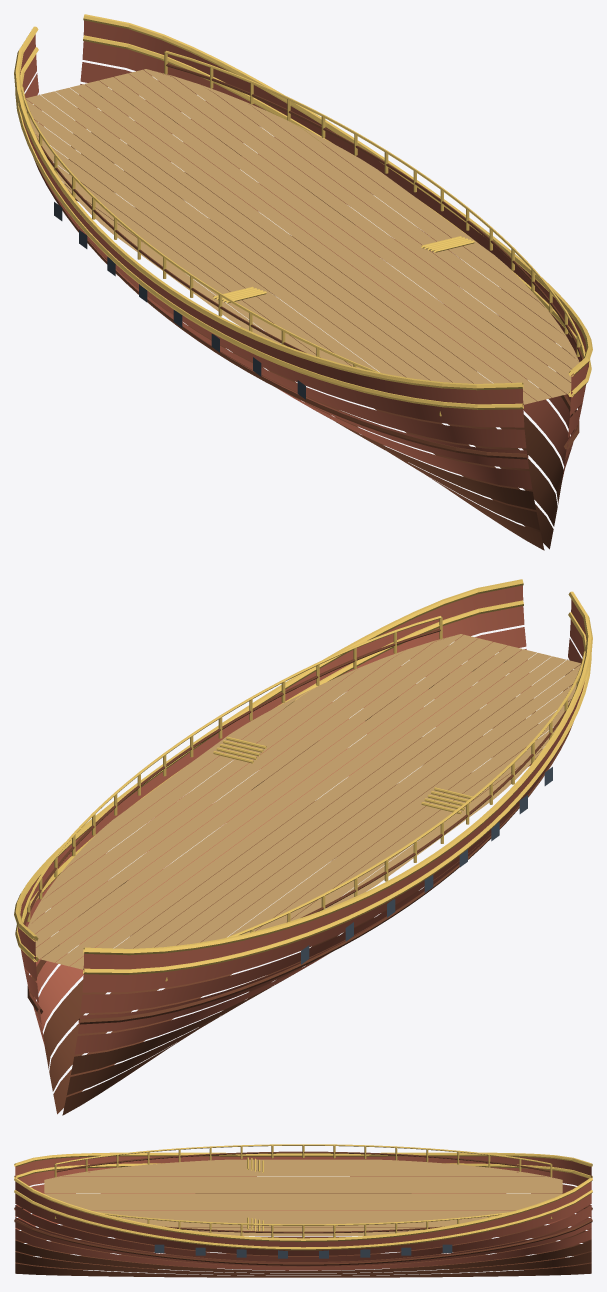
File: navy-galleon-hull.glb
3 views of the same model, one above another, from view 1: azimuth 30°, elevation 25°; view 2: azimuth 150°, elevation 25°; view 3: azimuth 270°, elevation 25° (orthographic). The views are drawn at different scales.
Parts seen in each view (by area): view 1: hull-role-deck.023, hull-role-hull.023, hull-role-trim.023, hull-role-hullDark.023, hull-role-metal.023; view 2: hull-role-deck.023, hull-role-hull.023, hull-role-trim.023, hull-role-hullDark.023, hull-role-metal.023; view 3: hull-role-deck.023, hull-role-hull.023, hull-role-hullDark.023, hull-role-trim.023, hull-role-metal.023.
Boxes of the visible parts, x1,y1,x2,y2 form: hull-role-deck.023: (25, 69, 579, 404); hull-role-hull.023: (20, 20, 589, 489); hull-role-trim.023: (14, 14, 592, 416); hull-role-hullDark.023: (33, 64, 583, 550); hull-role-metal.023: (54, 202, 305, 399); hull-role-deck.023: (27, 634, 581, 969); hull-role-hull.023: (17, 585, 586, 1054); hull-role-trim.023: (14, 579, 592, 981); hull-role-hullDark.023: (23, 629, 573, 1115); hull-role-metal.023: (301, 767, 552, 964); hull-role-deck.023: (44, 1159, 562, 1235); hull-role-hull.023: (15, 1156, 591, 1270); hull-role-hullDark.023: (14, 1151, 592, 1277); hull-role-trim.023: (14, 1144, 592, 1250); hull-role-metal.023: (154, 1244, 452, 1258).
Bounding box in the file's own units: 24.95 × 13.72 × 70.34.
